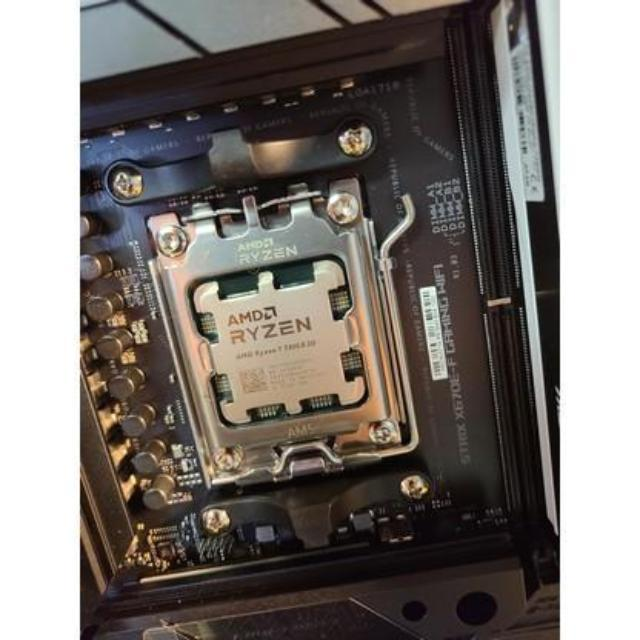CPU: (192, 260, 366, 428)
